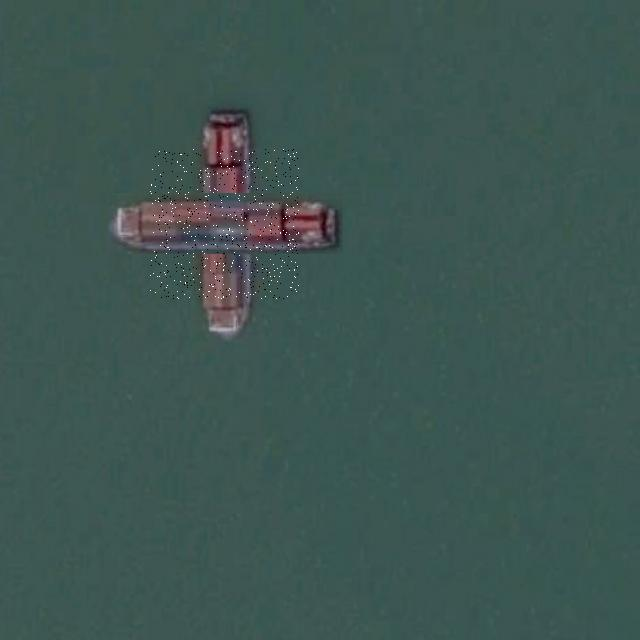boat: (150, 149, 299, 299)
